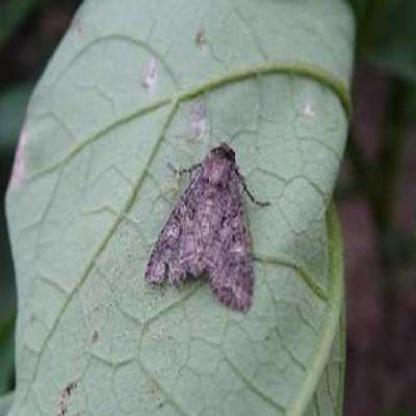armyworm: (140, 134, 273, 315)
